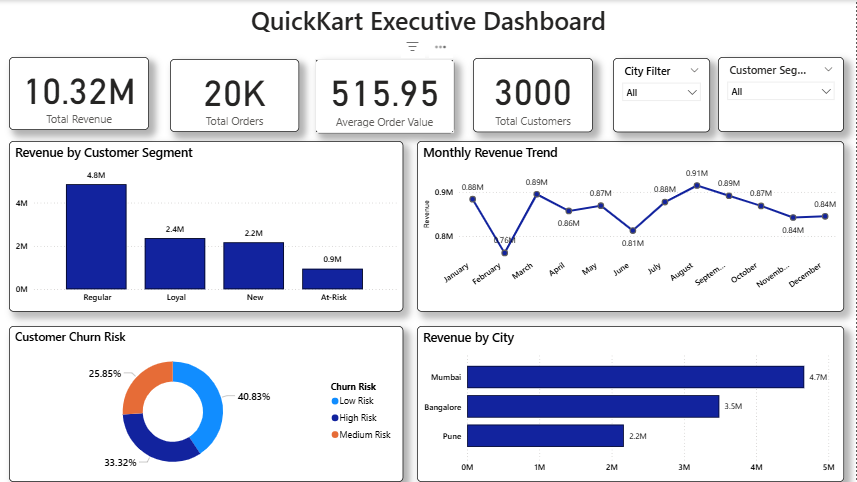

Layout of this report page (visuals, bound fields, positions):
{"tool":"powerbi","page":{"name":"Executive  Overview","canvas":[1280,720],"ordinal":0},"visuals":[{"type":"textbox","box":[0,0,1280,65],"z":0},{"type":"card","fields":{"Values":["orders.Revenue"]},"box":[13.4,85.1,209.1,109],"z":1000},{"type":"card","fields":{"Values":["orders.Total orders"]},"box":[253.9,88.1,192.7,109],"z":2000},{"type":"card","fields":{"Values":["customers.Avg_order_value"]},"box":[470.5,88.1,207.6,110.5],"z":3000},{"type":"card","fields":{"Values":["customers.Total Customers"]},"box":[706.6,86.6,179.3,110.5],"z":4000},{"type":"lineChart","title":"Monthly Revenue Trend","fields":{"Y":["Sum(orders.final_amount_paid)"],"Category":["orders.Month Name"]},"box":[622.9,210.6,637.8,255.4],"z":5000},{"type":"clusteredBarChart","title":"Revenue by City","fields":{"Y":["Sum(orders.final_amount_paid)"],"Category":["customers.city_name"]},"box":[622.9,487,637.8,233],"z":6000},{"type":"clusteredColumnChart","title":" Revenue by Customer Segment","fields":{"Category":["customers.customer_segment"],"Y":["Sum(orders.final_amount_paid)"]},"box":[13.4,210.6,588.5,255.4],"z":7000},{"type":"donutChart","title":"Customer Churn Risk","fields":{"Category":["orders.Churn Risk"],"Y":["Count(orders.customer_id)"]},"box":[13.4,487,588.5,233],"z":8000},{"type":"slicer","fields":{"Values":["customers.city_name"]},"box":[915.7,86.6,144.9,110.5],"z":9000},{"type":"slicer","fields":{"Values":["customers.customer_segment"]},"box":[1072.5,85.1,188.2,112],"z":10000}]}

Visuals, with their boxes in screenshot pixels (x1, y1, x2, y2), scaled from the page's 1280x720 canvas onto the 857x482 screenshot:
textbox: (x1=0, y1=0, x2=856, y2=44)
card - orders.Revenue: (x1=9, y1=57, x2=149, y2=130)
card - orders.Total orders: (x1=170, y1=59, x2=299, y2=132)
card - customers.Avg_order_value: (x1=315, y1=59, x2=454, y2=133)
card - customers.Total Customers: (x1=473, y1=58, x2=593, y2=132)
"Monthly Revenue Trend" lineChart: (x1=417, y1=141, x2=844, y2=312)
"Revenue by City" clusteredBarChart: (x1=417, y1=326, x2=844, y2=481)
" Revenue by Customer Segment" clusteredColumnChart: (x1=9, y1=141, x2=403, y2=312)
"Customer Churn Risk" donutChart: (x1=9, y1=326, x2=403, y2=481)
slicer - customers.city_name: (x1=613, y1=58, x2=710, y2=132)
slicer - customers.customer_segment: (x1=718, y1=57, x2=844, y2=132)
